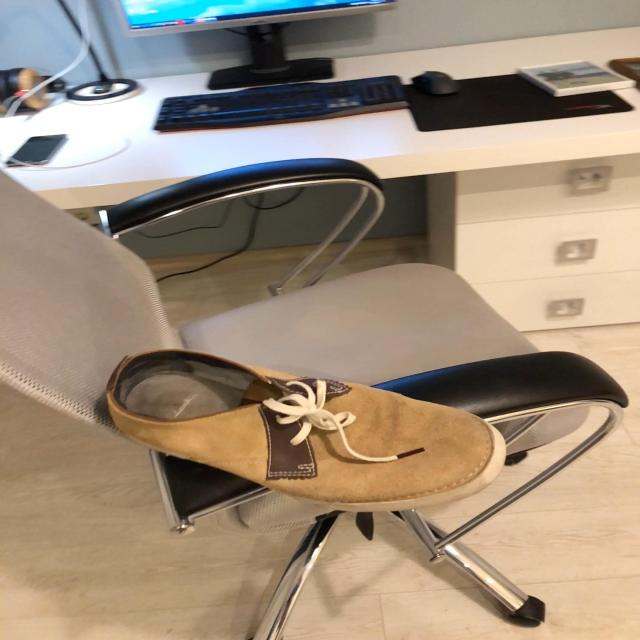shoe: (101, 349, 507, 513)
